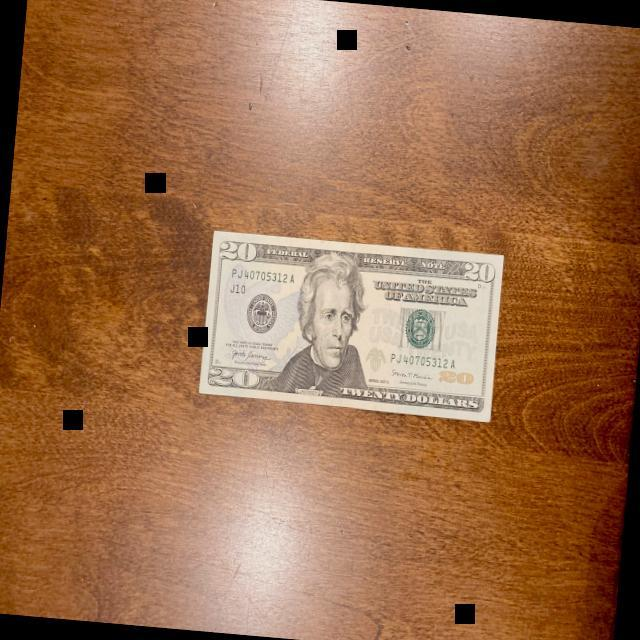twenty: (197, 226, 505, 422)
